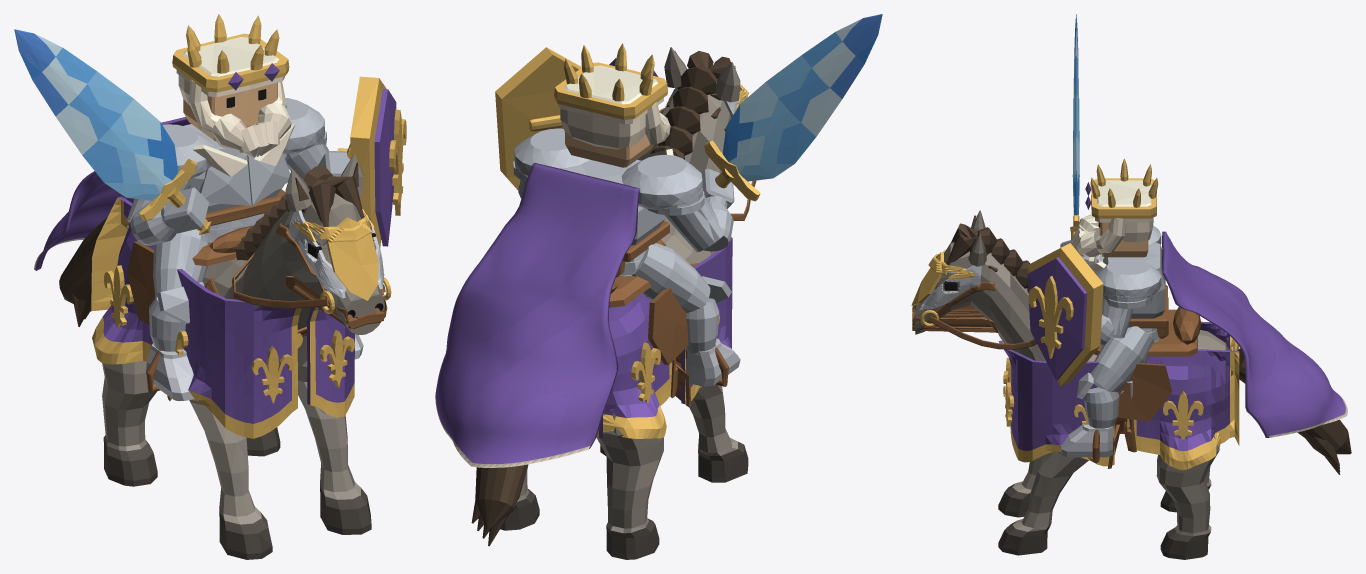
File: crownofages.glb
3 renders of one model, left to right at view 1: azimuth 30°, elevation 25°; view 2: azimuth 150°, elevation 25°; view 3: azimuth 270°, elevation 25°, orthographic. The views are drawn at different scales.
Parts seen in each view (by area): view 1: Warhorse — single connected sculpted equine head neck trunk , Warhorse — royal thick continuously folded side cloth 1 fron, King royal blue greatsword — slender widening source crystal, Warhorse — royal thick continuously folded side cloth 1 rear, Warhorse — royal thick continuously folded side cloth -1 fro, Mounted champion — continuously folded source cloak, King royal kite shield — thick convex kite envelope, Warhorse — actual source-fitted gold forehead nasal barding, King royal kite shield — inset convex field, Mounted champion — shaped seated thigh 1, King — fitted complete silver-white scalp cavity below crown, King — fitted outer gold crown band (+36 smaller); view 2: Mounted champion — continuously folded source cloak, Warhorse — single connected sculpted equine head neck trunk , King royal blue greatsword — slender widening source crystal, Warhorse — royal thick continuously folded side cloth 1 rear, King royal kite shield — thick convex kite envelope, Mounted champion — source convex angular shoulder crown 1, Mounted champion — shaped seated thigh 1, Warhorse — long solid angular tail, Warhorse — shaped source leather saddle skirt 1, King — connected fitted white posterior hair and nape return, King — fitted complete silver-white scalp cavity below crown, King — fitted outer gold crown band (+21 smaller); view 3: Warhorse — single connected sculpted equine head neck trunk , Mounted champion — continuously folded source cloak, Warhorse — royal thick continuously folded side cloth -1 rea, Warhorse — royal thick continuously folded side cloth -1 fro, King royal kite shield — inset convex field, King royal kite shield — thick convex kite envelope, Mounted champion — shaped seated thigh -1, Warhorse — shaped source leather saddle skirt -1, Mounted champion — source convex angular shoulder crown -1, King royal kite shield — source seated heraldic relief, King — fitted complete silver-white scalp cavity below crown, Mounted champion — articulated boot -1 (+17 smaller).
Boxes of the visible parts, x1,y1,x2,y2 form: Warhorse — single connected sculpted equine head neck trunk : (102, 193, 384, 559); Warhorse — royal thick continuously folded side cloth 1 fron: (175, 269, 301, 438); King royal blue greatsword — slender widening source crystal: (14, 29, 178, 200); Warhorse — royal thick continuously folded side cloth 1 rear: (91, 196, 153, 364); Warhorse — royal thick continuously folded side cloth -1 fro: (307, 297, 354, 417); Mounted champion — continuously folded source cloak: (34, 117, 190, 270); King royal kite shield — thick convex kite envelope: (350, 76, 386, 247); Warhorse — actual source-fitted gold forehead nasal barding: (326, 217, 378, 300); King royal kite shield — inset convex field: (374, 89, 396, 246); Mounted champion — shaped seated thigh 1: (153, 229, 208, 297); King — fitted complete silver-white scalp cavity below crown: (176, 37, 284, 97); King — fitted outer gold crown band: (172, 33, 289, 92); Mounted champion — continuously folded source cloak: (435, 163, 639, 467); Warhorse — single connected sculpted equine head neck trunk : (500, 82, 748, 559); King royal blue greatsword — slender widening source crystal: (722, 14, 882, 181); Warhorse — royal thick continuously folded side cloth 1 rear: (596, 293, 672, 438); King royal kite shield — thick convex kite envelope: (495, 47, 581, 190); Mounted champion — source convex angular shoulder crown 1: (621, 154, 702, 209); Mounted champion — shaped seated thigh 1: (631, 243, 710, 312); Warhorse — long solid angular tail: (475, 464, 528, 529); Warhorse — shaped source leather saddle skirt 1: (648, 288, 688, 364); King — connected fitted white posterior hair and nape return: (560, 109, 645, 149); King — fitted complete silver-white scalp cavity below crown: (558, 65, 663, 124); King — fitted outer gold crown band: (554, 62, 667, 119); Warhorse — single connected sculpted equine head neck trunk : (915, 242, 1229, 559); Mounted champion — continuously folded source cloak: (1162, 231, 1347, 437); Warhorse — royal thick continuously folded side cloth -1 rea: (1127, 349, 1239, 470); Warhorse — royal thick continuously folded side cloth -1 fro: (998, 340, 1114, 466); King royal kite shield — inset convex field: (1027, 257, 1087, 380); King royal kite shield — thick convex kite envelope: (1027, 243, 1103, 386); Mounted champion — shaped seated thigh -1: (1090, 326, 1154, 391); Warhorse — shaped source leather saddle skirt -1: (1117, 363, 1171, 421); Mounted champion — source convex angular shoulder crown -1: (1096, 259, 1161, 298); King royal kite shield — source seated heraldic relief: (1028, 276, 1073, 358); King — fitted complete silver-white scalp cavity below crown: (1095, 180, 1153, 222); Mounted champion — articulated boot -1: (1060, 424, 1113, 457).
Size of the model in its own units: 1.59 by 2.11 by 2.01.
